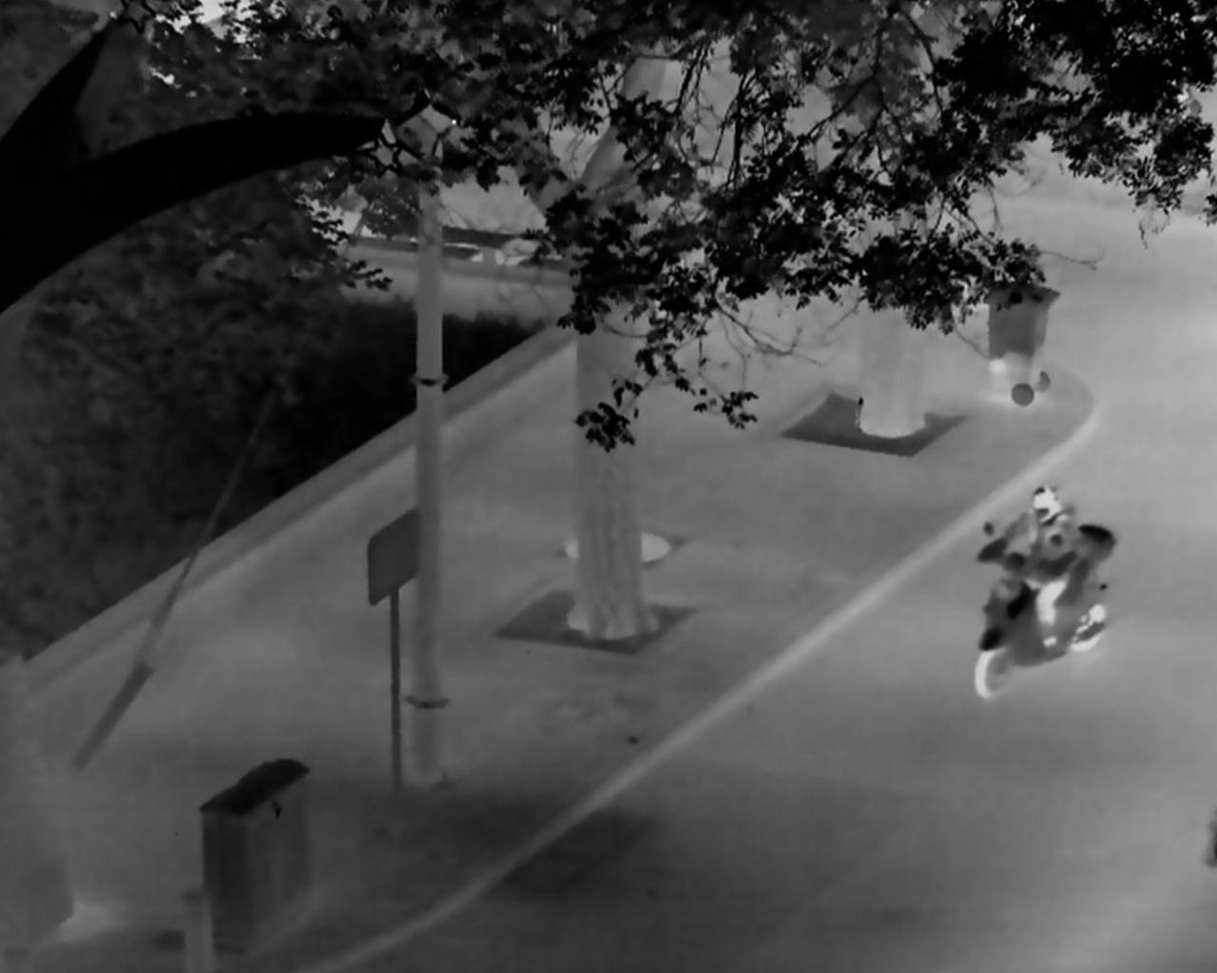person: (978, 484, 1086, 650)
